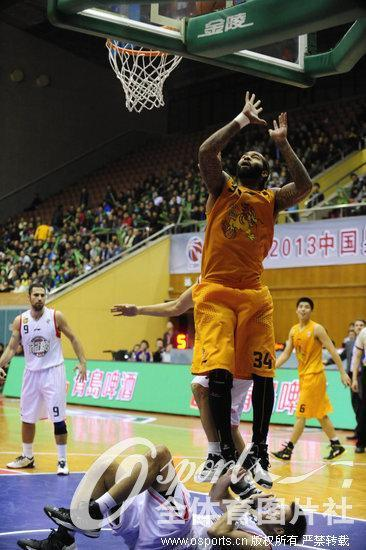Fall-Detected: (16, 435, 308, 550)
